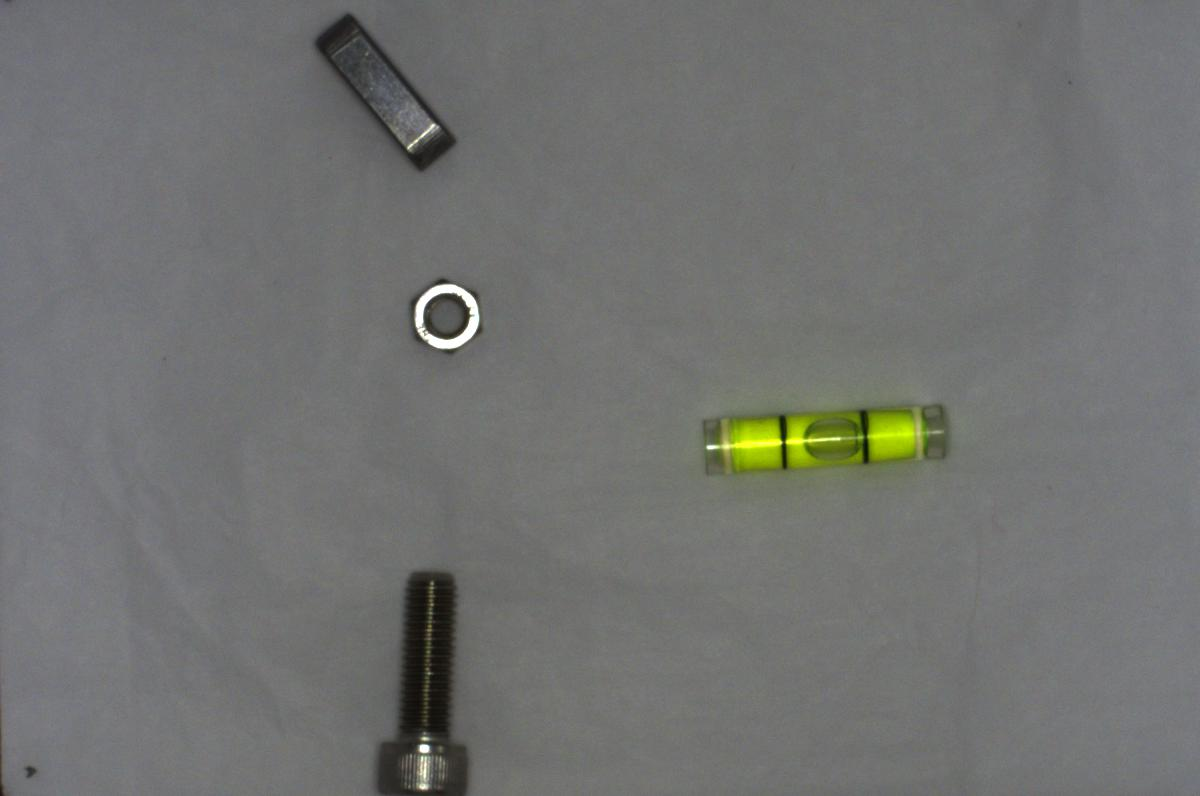Hexagon nut: (399, 259, 479, 355)
Hexagon screw: (354, 561, 482, 795)
Horizontal bubble: (687, 399, 960, 476)
Keybar: (314, 10, 448, 176)
